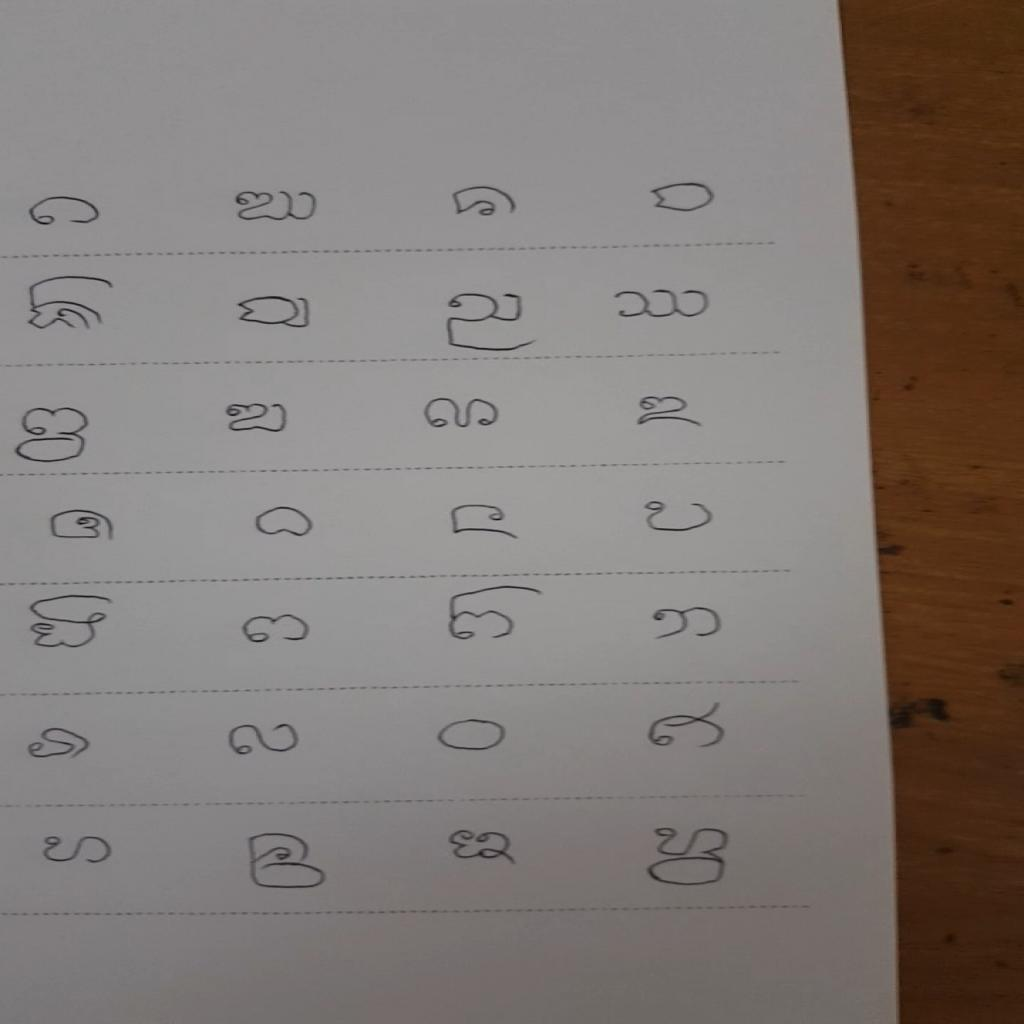LN003: (21, 194, 107, 230)
LN004: (229, 186, 325, 226)
LN005: (445, 183, 524, 221)
LN006: (645, 179, 724, 217)
LN009: (21, 273, 119, 334)
LN010: (231, 292, 319, 334)
LN011: (439, 290, 543, 356)
LN012: (606, 286, 721, 324)
LN015: (10, 404, 96, 468)
LN016: (222, 401, 293, 437)
LN017: (417, 395, 508, 433)
LN018: (627, 393, 709, 432)
LN021: (45, 507, 119, 545)
LN022: (251, 504, 320, 542)
LN023: (442, 501, 528, 543)
LN024: (640, 499, 722, 538)
LN027: (25, 591, 119, 652)
LN028: (238, 611, 317, 649)
LN029: (444, 583, 550, 645)
LN030: (648, 603, 729, 645)
LN033: (23, 726, 99, 763)
LN034: (222, 721, 307, 760)
LN035: (433, 717, 515, 756)
LN036: (644, 700, 734, 754)
LN039: (37, 833, 119, 869)
LN040: (243, 831, 334, 893)
LN041: (445, 827, 526, 869)
LN042: (644, 823, 740, 891)
